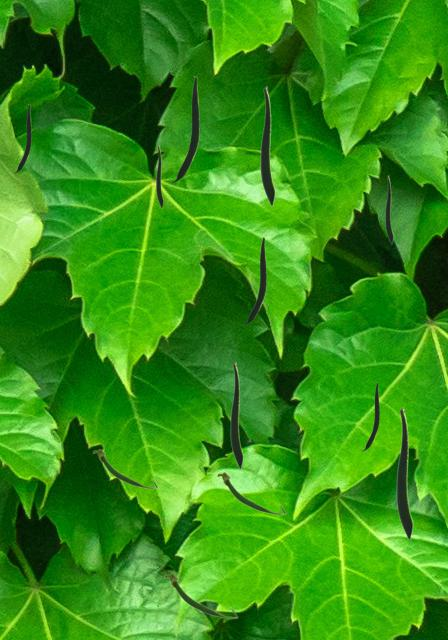french_bean: (163, 572, 237, 618), (170, 76, 198, 182), (216, 471, 285, 514), (92, 448, 157, 488), (396, 407, 412, 539), (243, 237, 265, 324), (260, 86, 274, 205), (230, 362, 242, 468), (14, 104, 30, 172), (362, 382, 378, 450), (385, 175, 392, 243), (156, 145, 162, 207)
